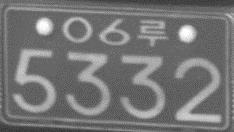0: (61, 15, 93, 44)
2: (174, 56, 222, 123)
3: (119, 53, 166, 120), (65, 51, 110, 116)
5: (11, 48, 56, 114)
6: (97, 17, 131, 46)
루: (136, 18, 168, 47)
